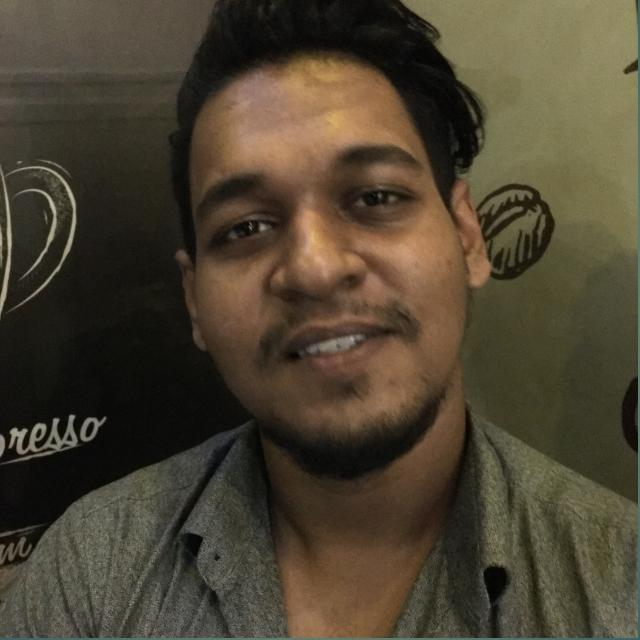Happy: (139, 66, 503, 502)
